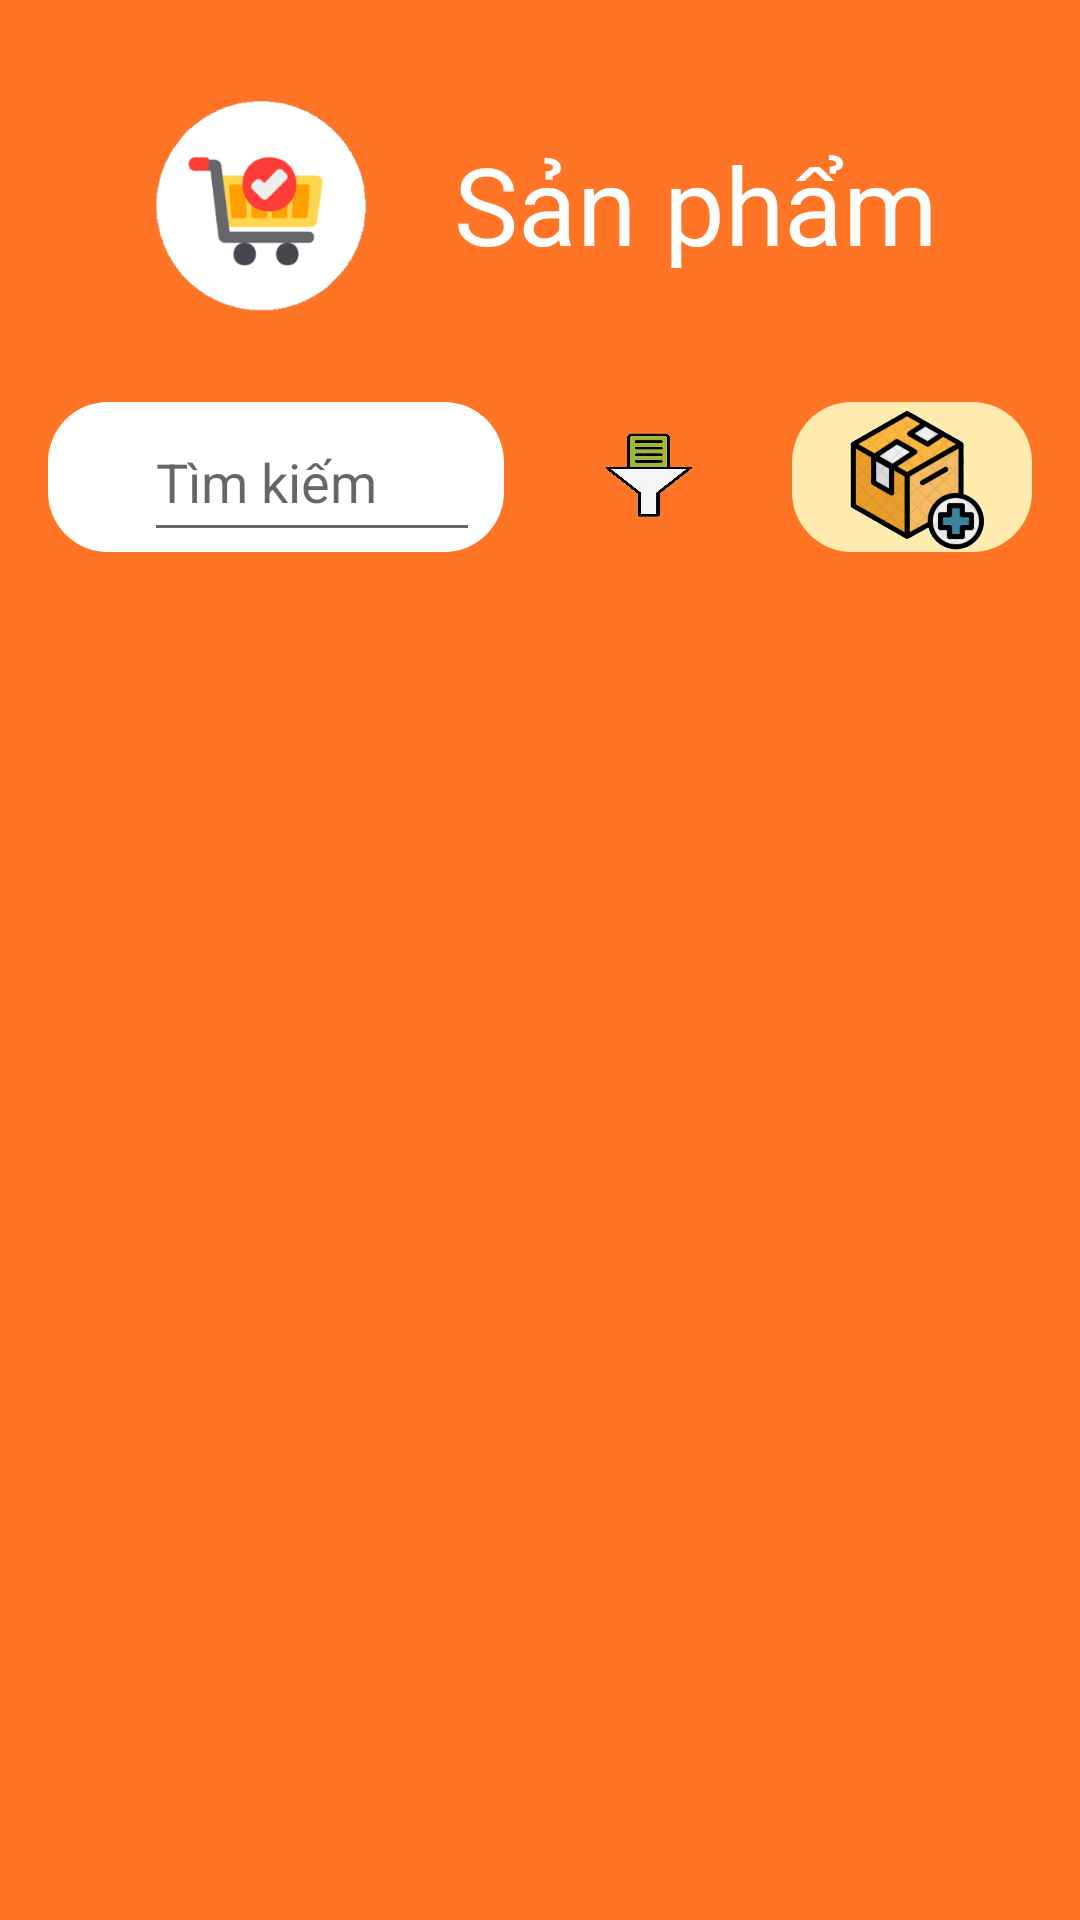

Icons on this 1080 × 1920 Android screen, each with its box as [left=x1, top=y1, right=x2, bottom=y2]:
them sanpham: [left=792, top=402, right=1032, bottom=552]
